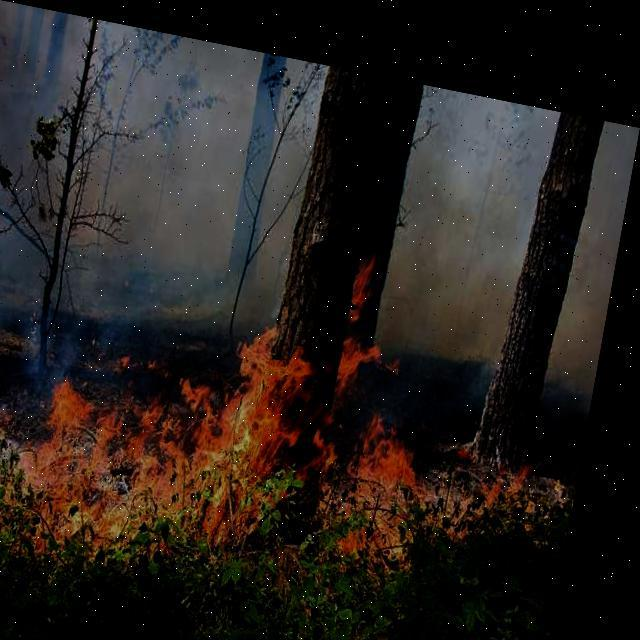Fire: (0, 275, 581, 620)
